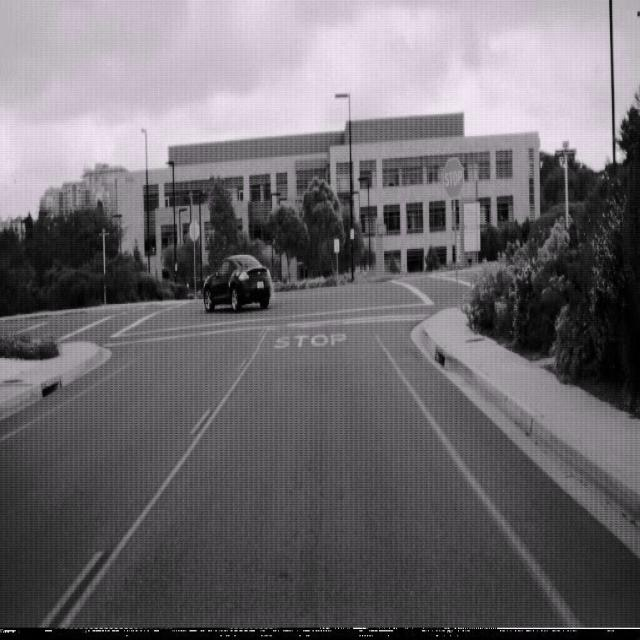stop: (442, 156, 464, 198)
